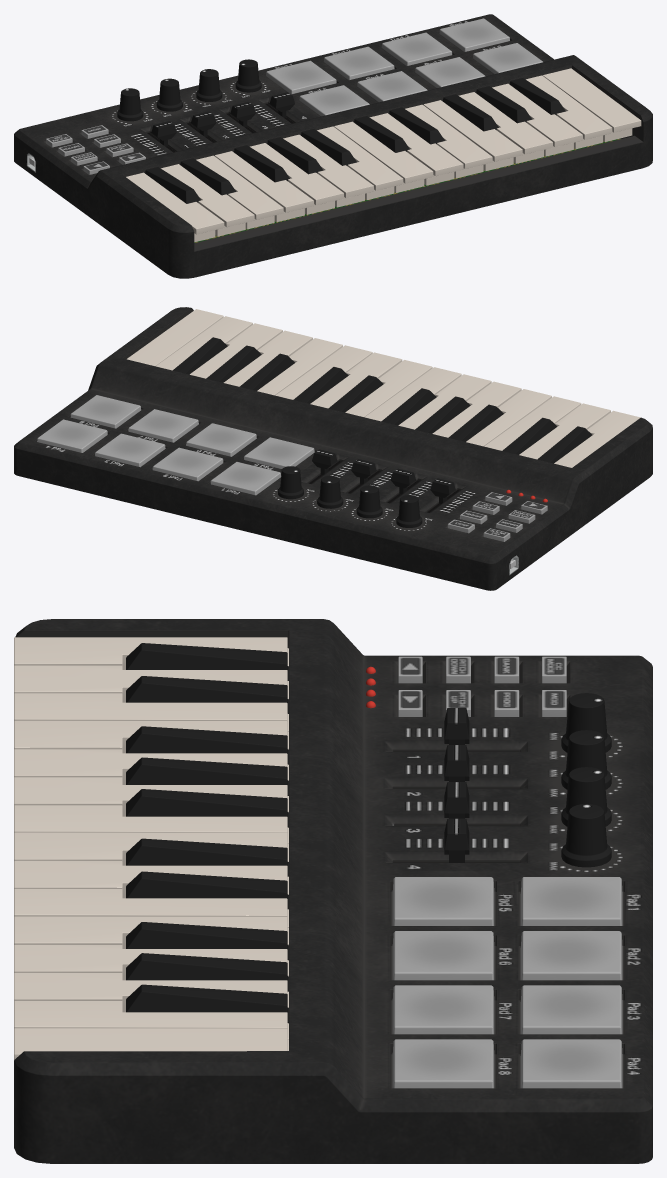
File: model-keyboard.glb
The picture shows the model from 3 angles, top to bottom: view 1: azimuth 30°, elevation 25°; view 2: azimuth 150°, elevation 25°; view 3: azimuth 270°, elevation 25°; orthographic projection. The views are drawn at different scales.
Parts seen in each view (by area): view 1: Object_2; view 2: Object_2; view 3: Object_2.
Boxes of the visible parts, x1,y1,x2,y2 form: Object_2: (14,14,652,278); Object_2: (14,307,652,590); Object_2: (14,619,652,1163).
Bounding box in the file's own units: 0.4558 × 0.0539 × 0.2724.
Materials: 1 (1 with a texture image).
